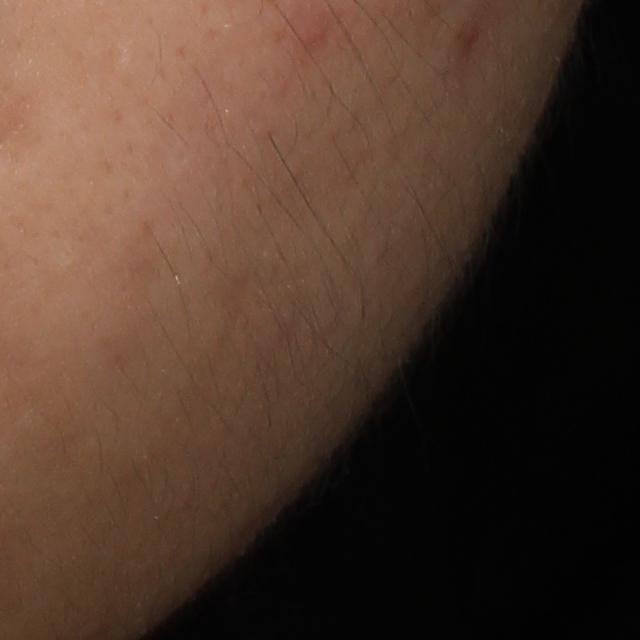papule: (295, 18, 336, 55)
